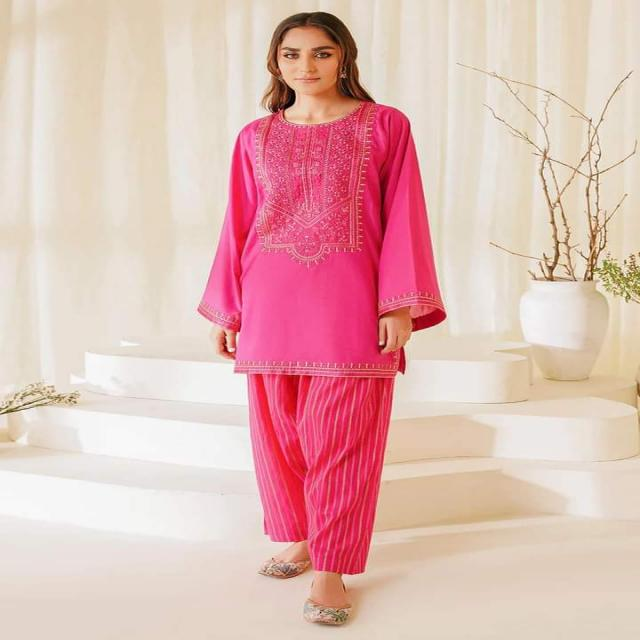female-dress: (214, 103, 443, 577)
